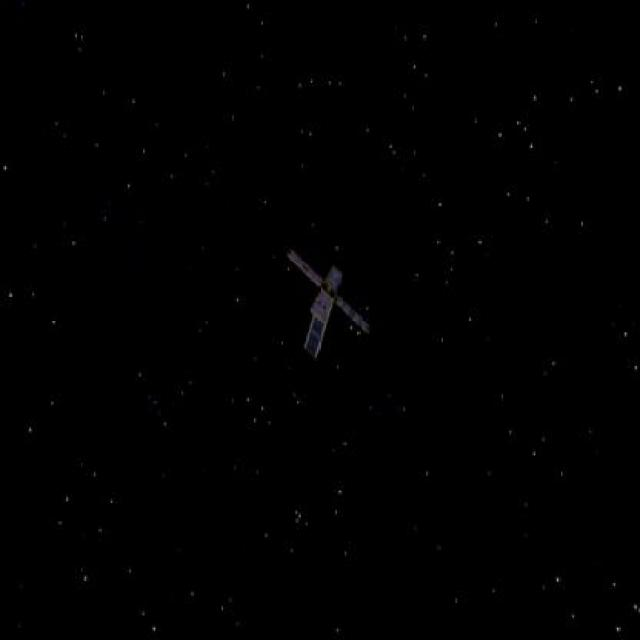medium_debris: (275, 244, 379, 379)
